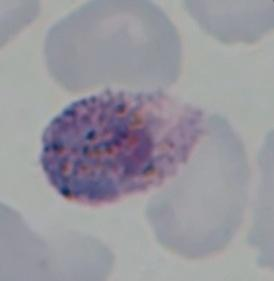Infected: (41, 93, 206, 207)
Uninfected: (144, 113, 250, 258), (41, 5, 181, 90)
